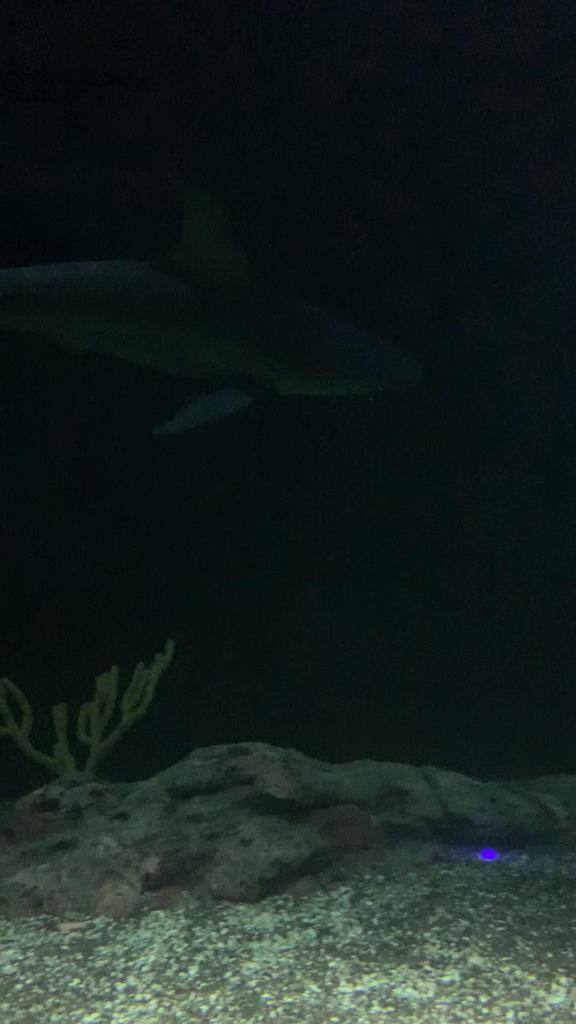shark: (0, 180, 424, 434)
